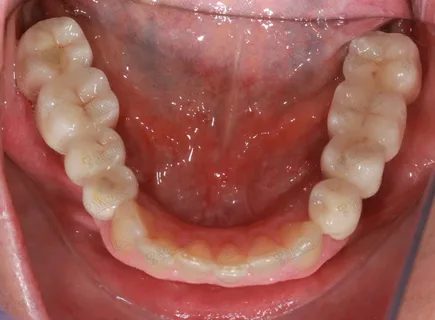LL1BC_healthy: (308, 180, 361, 235)
LL1M_healthy: (332, 81, 402, 146)
LL2BC_healthy: (319, 137, 385, 191)
LL2M_decay: (347, 26, 413, 89)
LLCI_healthy: (215, 244, 247, 279)
LLC_healthy: (282, 220, 323, 265)
LLLI_healthy: (248, 235, 289, 277)
LR1BC_healthy: (90, 170, 134, 212)
LR1M_decay: (34, 72, 119, 135)
LR2BC_healthy: (70, 131, 122, 175)
LR2M_healthy: (21, 23, 90, 73)
LRCI_healthy: (182, 238, 214, 275)
LRC_healthy: (115, 203, 151, 250)
LRLI_healthy: (145, 233, 179, 272)
